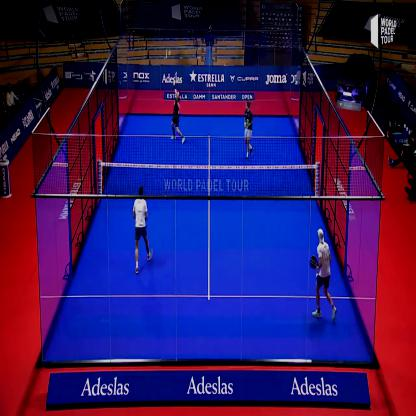ball: (166, 49, 173, 59)
